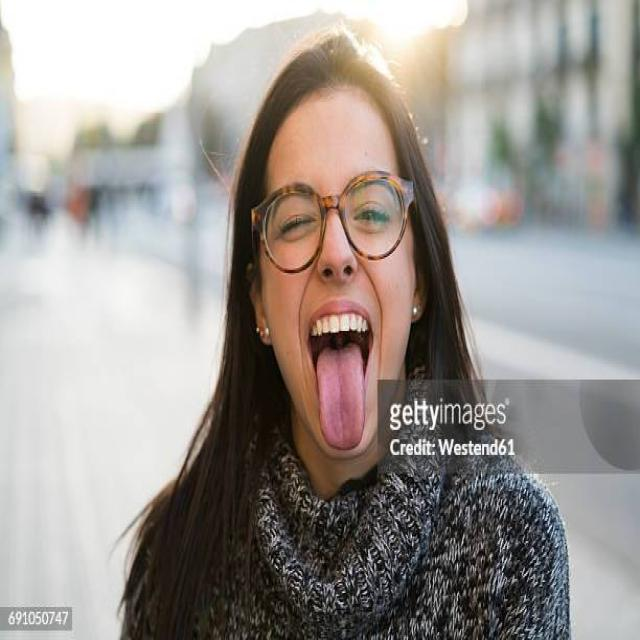tongue: (311, 344, 373, 455)
